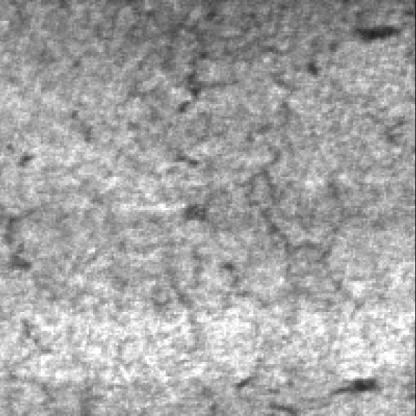crazing: (204, 96, 391, 395), (98, 0, 299, 175), (0, 146, 85, 414)
